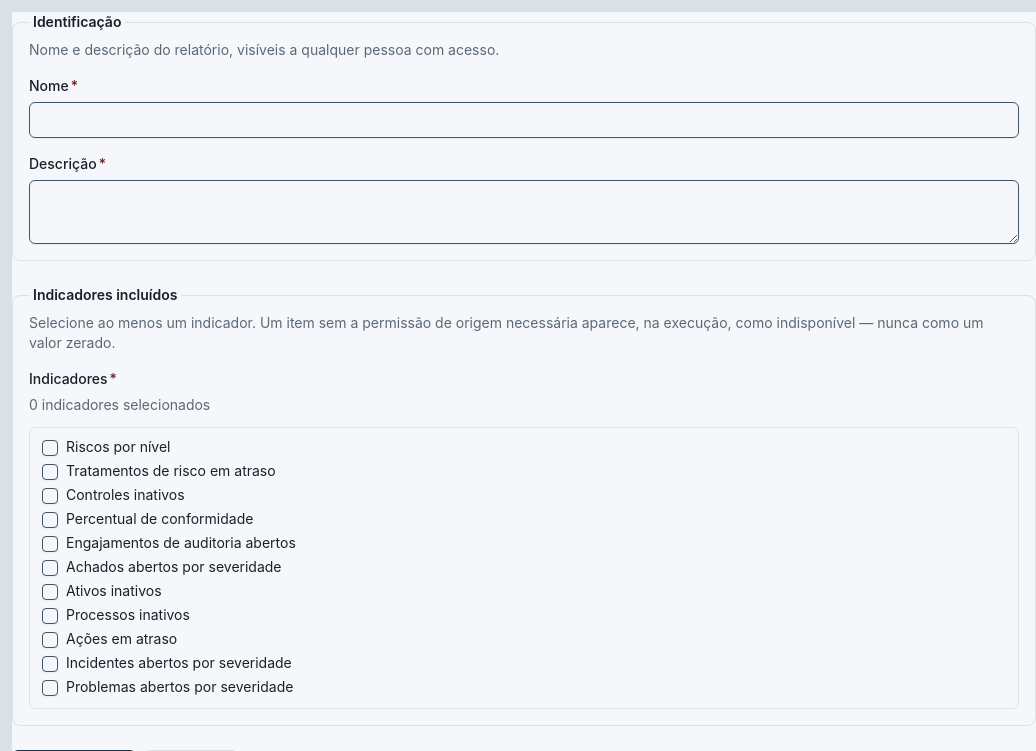
Test case: ReportForm › toggling a metric checkbox updates the selected-count copy
Check: the text "0 indicadores selecionados" is shown, box [29,396,210,413]
Click the checkbox named "Controles inativos" next to "Controles inativos".
click(50, 496)  # box [42,488,58,504]
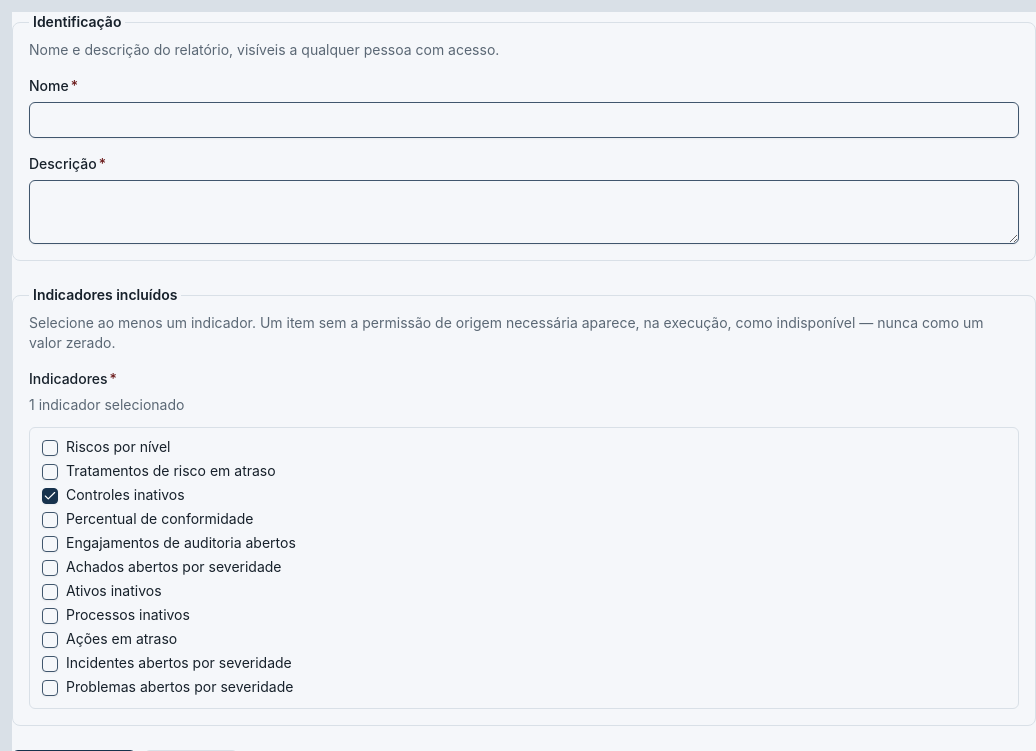
Check: the text "1 indicador selecionado" is shown, box [29,396,184,413]
